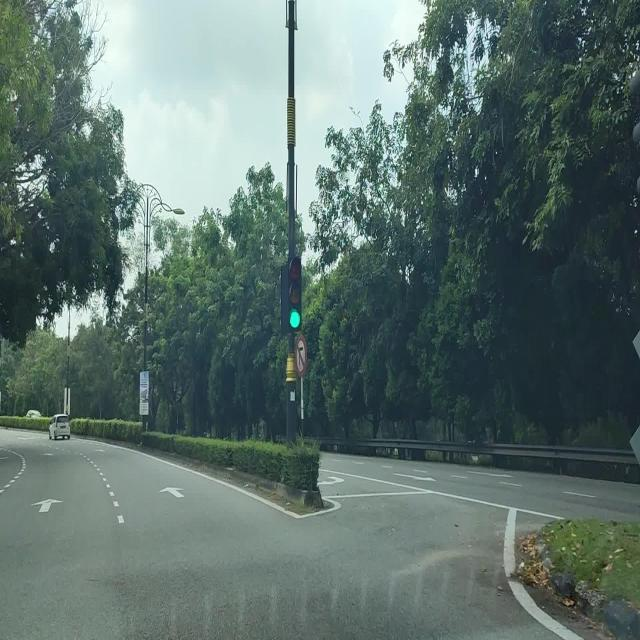car: (48, 414, 71, 440), (25, 410, 42, 419)
traffic light: (280, 257, 302, 334), (287, 256, 302, 332)
